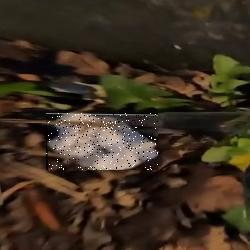restaffald: (46, 113, 158, 170)
